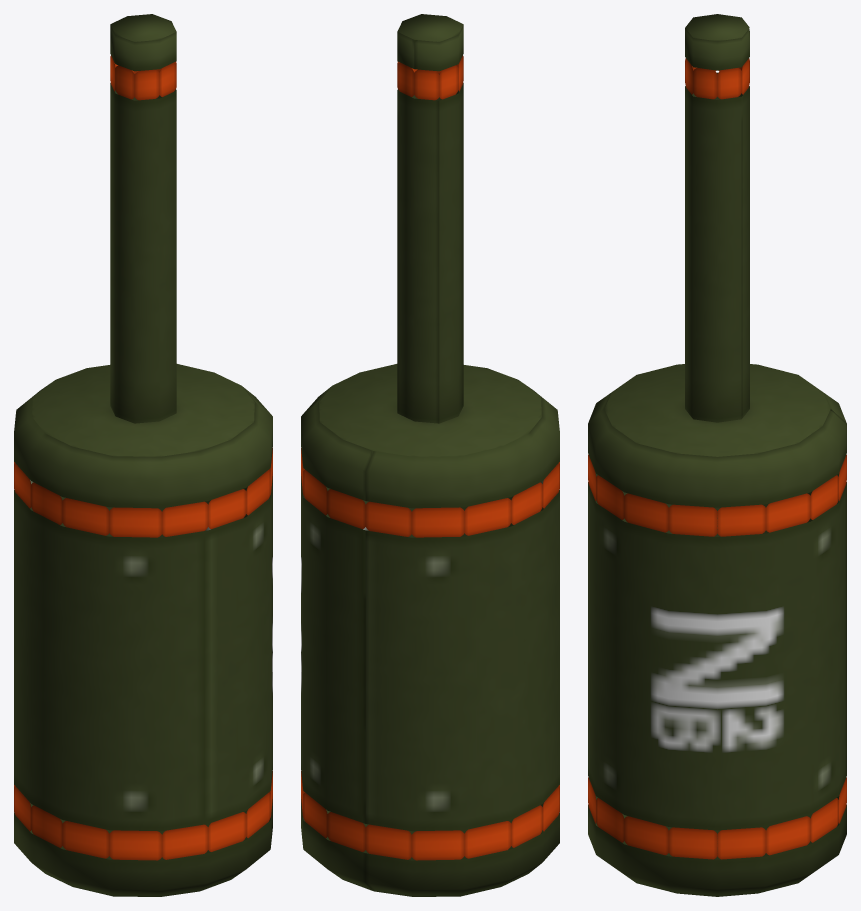
3 views of the same model, side by side, from view 1: azimuth 30°, elevation 25°; view 2: azimuth 150°, elevation 25°; view 3: azimuth 270°, elevation 25° (orthographic).
Parts seen in each view (by area): view 1: Cylinder, MineTrigger, CylinderGlow, MineTriggerGlow; view 2: Cylinder, MineTrigger, CylinderGlow, MineTriggerGlow; view 3: Cylinder, MineTrigger, CylinderGlow, MineTriggerGlow.
Boxes of the visible parts, x1,y1,x2,y2 form: Cylinder: (14, 364, 272, 896); MineTrigger: (110, 14, 176, 423); CylinderGlow: (14, 448, 272, 860); MineTriggerGlow: (110, 55, 176, 100); Cylinder: (301, 364, 559, 896); MineTrigger: (397, 14, 463, 423); CylinderGlow: (301, 448, 559, 860); MineTriggerGlow: (397, 55, 463, 100); Cylinder: (588, 364, 846, 896); MineTrigger: (685, 14, 749, 422); CylinderGlow: (588, 454, 846, 859); MineTriggerGlow: (685, 58, 749, 99).
Size of the model in its own units: 2 by 7 by 2.
